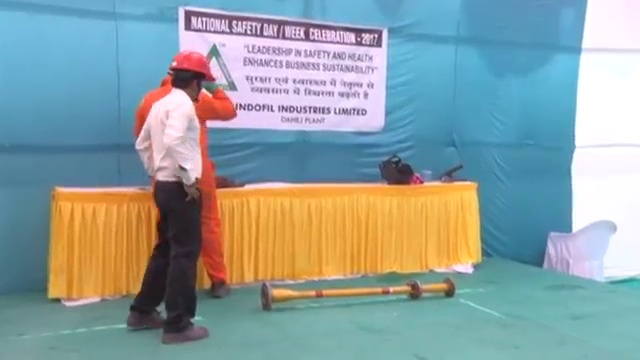helmet: (166, 49, 216, 84)
helmet_on: (164, 48, 214, 100)
person: (133, 49, 216, 346)
